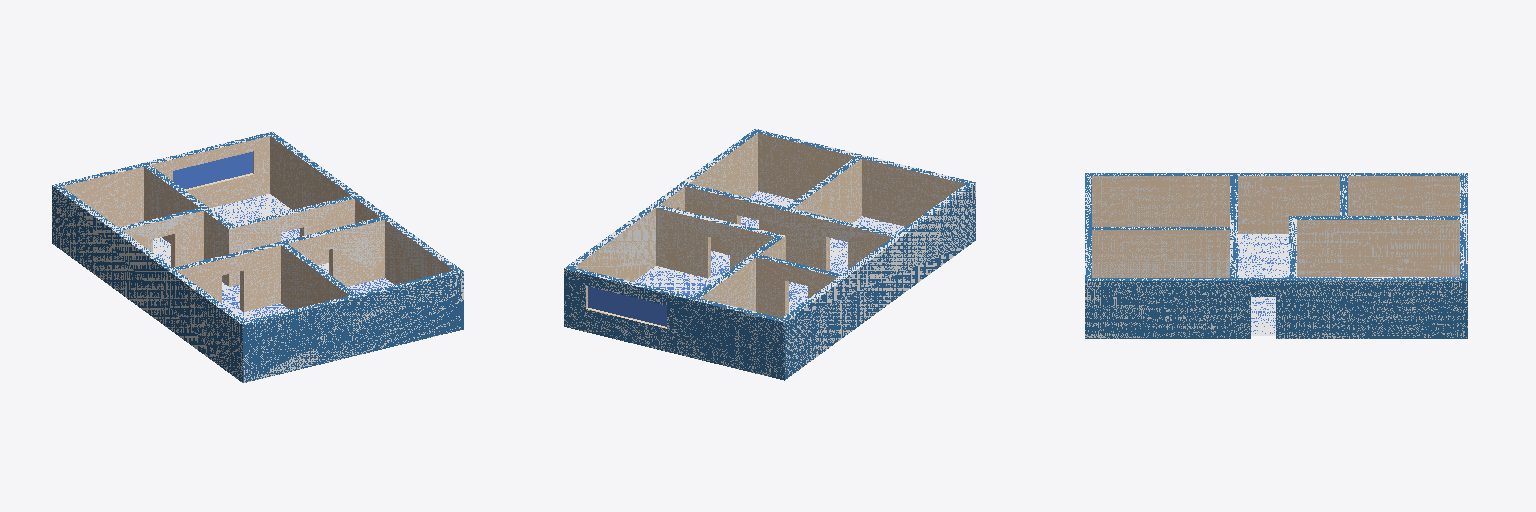
The model's file is piso2.obj.
The picture shows the model from 3 angles: view 1: azimuth 30°, elevation 25°; view 2: azimuth 150°, elevation 25°; view 3: azimuth 270°, elevation 25°; orthographic projection.
Parts seen in each view (by area): view 1: SketchUp ID12, SketchUp ID20, SketchUp ID28, SketchUp ID66; view 2: SketchUp ID20, SketchUp ID12, SketchUp ID28, SketchUp ID66; view 3: SketchUp ID20, SketchUp ID12, SketchUp ID28.
Part boxes in pixels (x1,y1,x2,y2): SketchUp ID12: (52, 131, 463, 382); SketchUp ID20: (62, 136, 452, 311); SketchUp ID28: (210, 194, 393, 320); SketchUp ID66: (173, 152, 252, 188); SketchUp ID20: (574, 133, 964, 317); SketchUp ID12: (564, 129, 975, 380); SketchUp ID28: (634, 191, 905, 312); SketchUp ID66: (588, 286, 666, 326); SketchUp ID20: (1092, 176, 1459, 277); SketchUp ID12: (1085, 173, 1467, 338); SketchUp ID28: (1238, 234, 1459, 335).
Size of the model in its own units: 6.68 by 1.67 by 10.22.